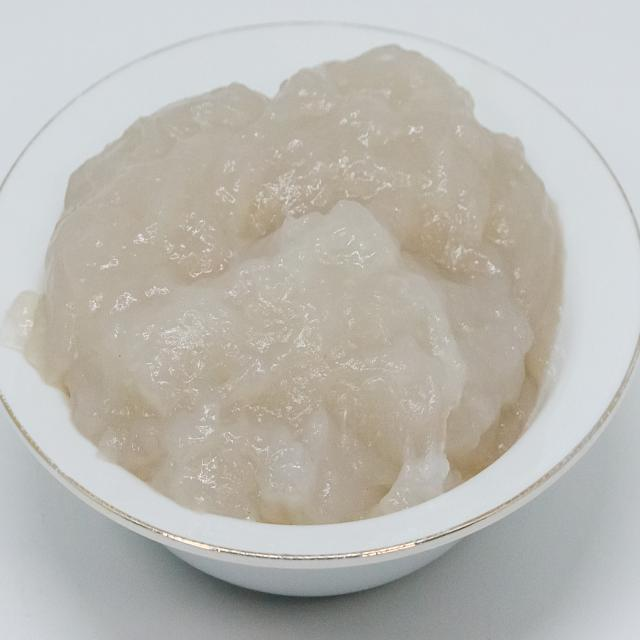Papeda: (18, 19, 580, 546)
